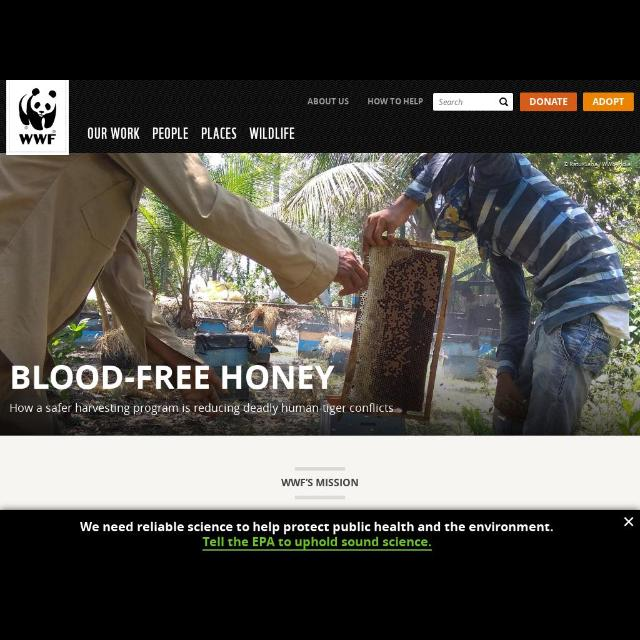backgroundimage: (2, 152, 638, 434)
icon: (623, 516, 635, 528), (498, 96, 509, 108)
iframe: (2, 509, 640, 557)
image: (5, 82, 69, 154)
input: (433, 94, 512, 110)
link: (204, 536, 432, 550)
text: (12, 364, 334, 390), (9, 401, 395, 417), (82, 521, 554, 533), (282, 478, 360, 488), (367, 96, 423, 108), (87, 127, 141, 139), (250, 126, 296, 140), (152, 126, 188, 140), (200, 126, 236, 140), (307, 97, 349, 107), (592, 97, 624, 107), (530, 98, 568, 106), (438, 99, 462, 107)
textbutton: (584, 91, 634, 111), (521, 92, 575, 110)
